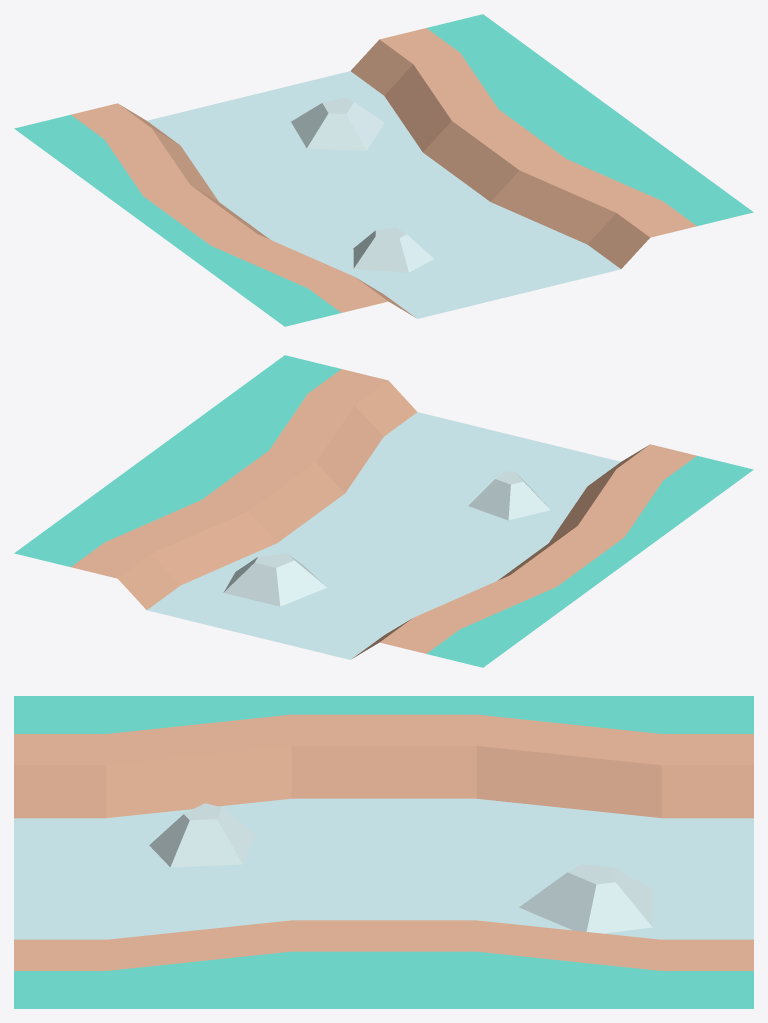
The model's file is ground_riverRocks.glb.
3 views of the same model, one above another, from view 1: azimuth 30°, elevation 25°; view 2: azimuth 150°, elevation 25°; view 3: azimuth 270°, elevation 25° (orthographic). The views are drawn at different scales.
Visible parts, largest first — view 1: ground_riverRocks; view 2: ground_riverRocks; view 3: ground_riverRocks.
Boxes of the visible parts, box(x1,y1,x2,y2) form: ground_riverRocks: box(14, 14, 753, 326); ground_riverRocks: box(14, 355, 753, 667); ground_riverRocks: box(14, 696, 753, 1008).
Bounding box in the file's own units: 1 × 0.05 × 1.
